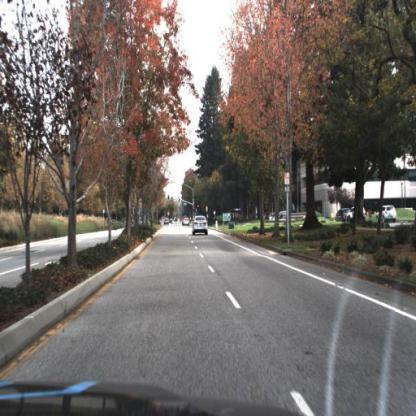car: (334, 195, 358, 217), (377, 204, 398, 225), (191, 214, 210, 236), (379, 203, 397, 224), (336, 208, 354, 224)
